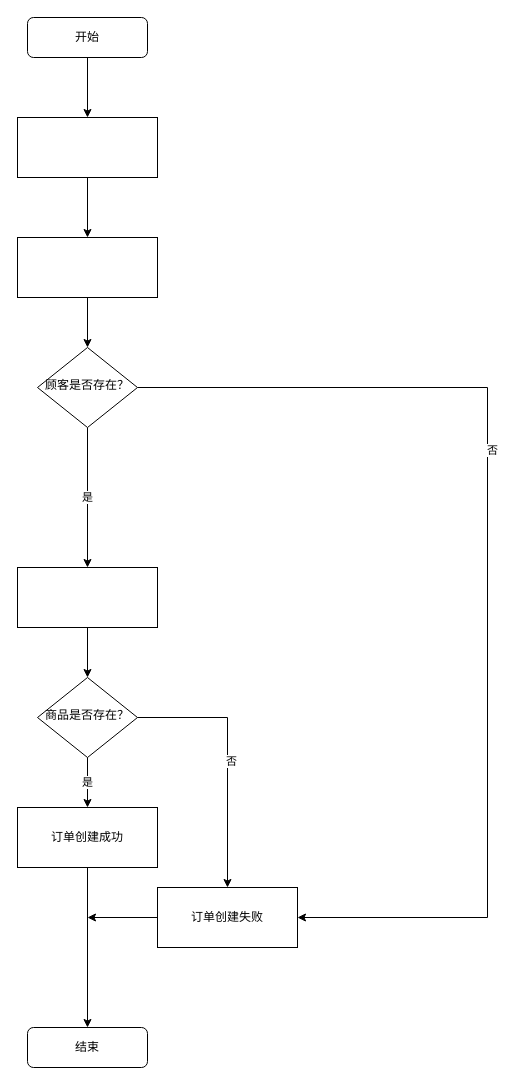
The diagram is 515 pixels wide and 1085 high, and some of its shapes have lost their labels. The shapes that lost their labels are listed below. From the top down, each one's box as (x1, y1, x2, y2) in pixels, then its label:
(16, 116, 158, 178): 订单新增
(16, 236, 158, 298): 调用顾客模块查询顾客
(16, 566, 158, 628): 调用商品模块查询商品
